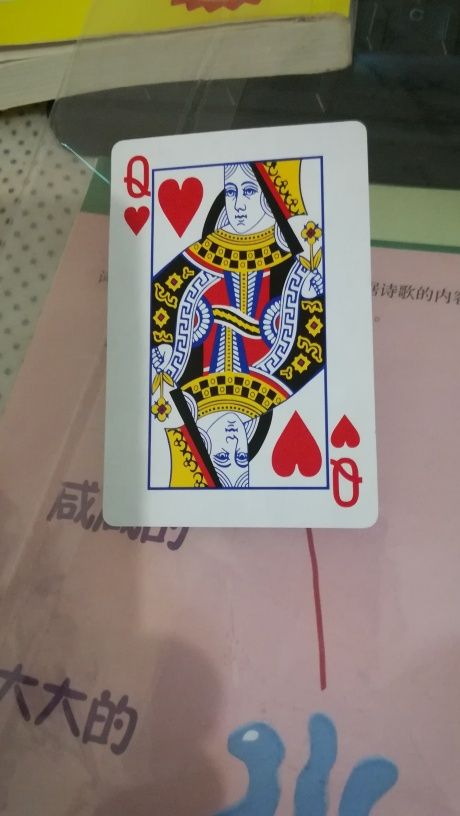hx q: (101, 119, 384, 534)
